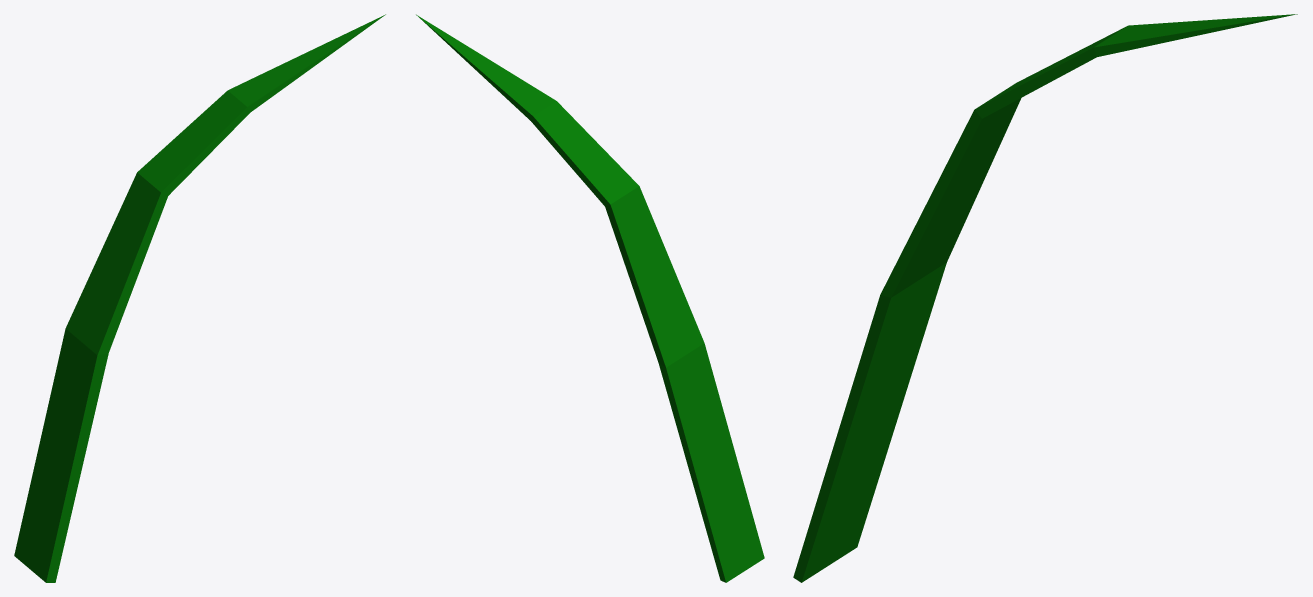
File: Grass-4.fbx
3 views of the same model, side by side, from view 1: azimuth 30°, elevation 25°; view 2: azimuth 150°, elevation 25°; view 3: azimuth 330°, elevation 25° (orthographic). The views are drawn at different scales.
Visible parts, largest first — view 1: Grass-4; view 2: Grass-4; view 3: Grass-4.
Boxes of the visible parts, x1=… form: Grass-4: x1=14, y1=14, x2=385, y2=582; Grass-4: x1=416, y1=14, x2=764, y2=582; Grass-4: x1=793, y1=14, x2=1297, y2=582.
Size of the model in its own units: 329 by 69.37 by 430.
